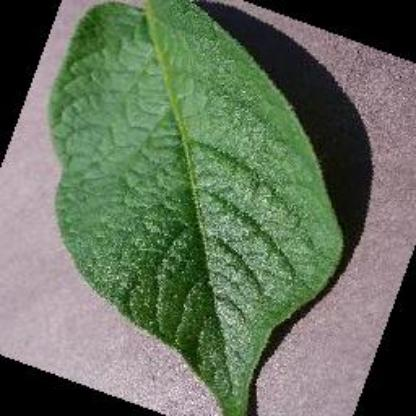Healthy-plant: (47, 0, 346, 416)
